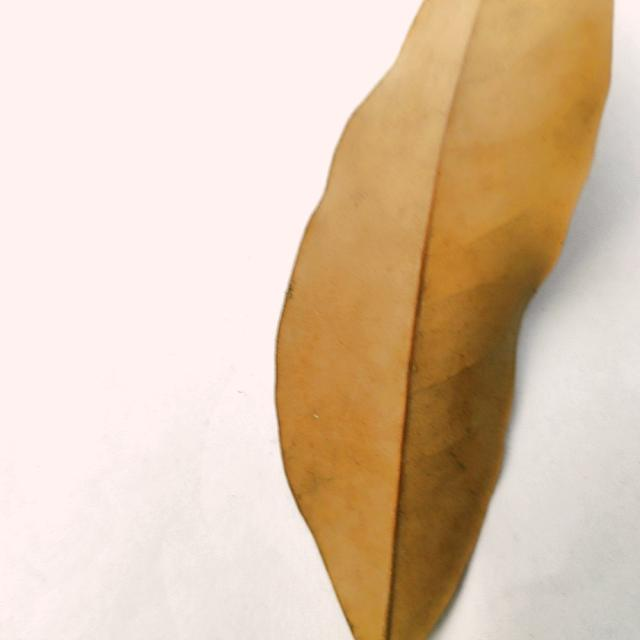Dry_Leaf-Lychee: (273, 0, 616, 639)
